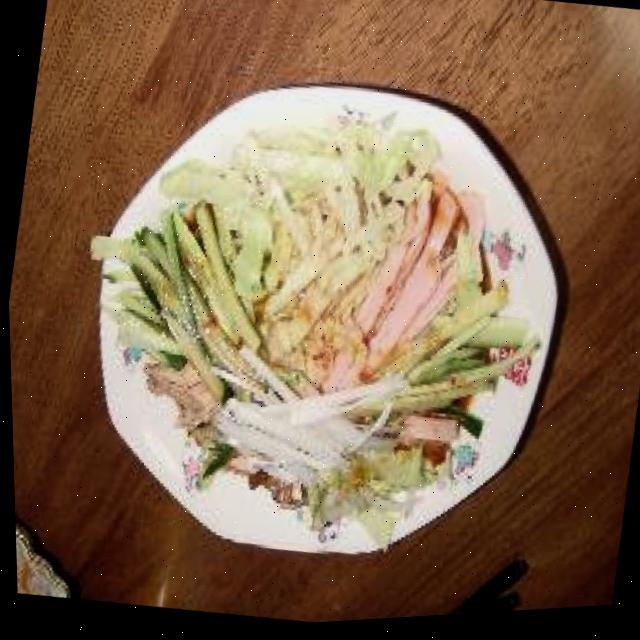面条主食: (43, 27, 597, 604)
